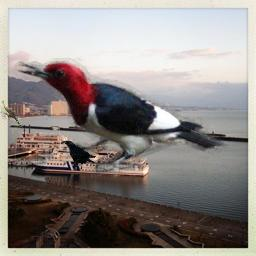Crow: (61, 140, 96, 171)
Cuckoo: (0, 100, 23, 129)
Woodpecker: (10, 56, 228, 178)
